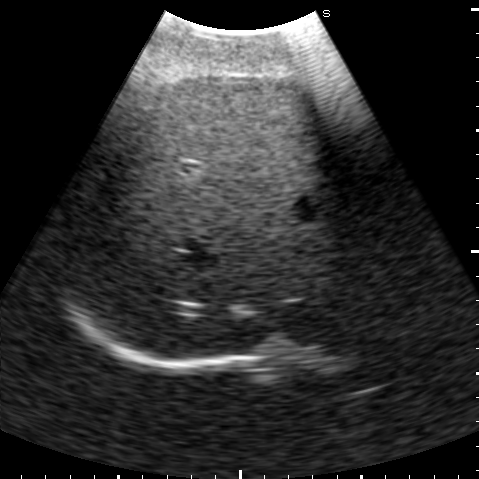S5: (137, 76, 332, 183)
S7: (67, 146, 170, 304)
S8: (117, 179, 366, 360)
Tumor: (227, 303, 256, 318)
